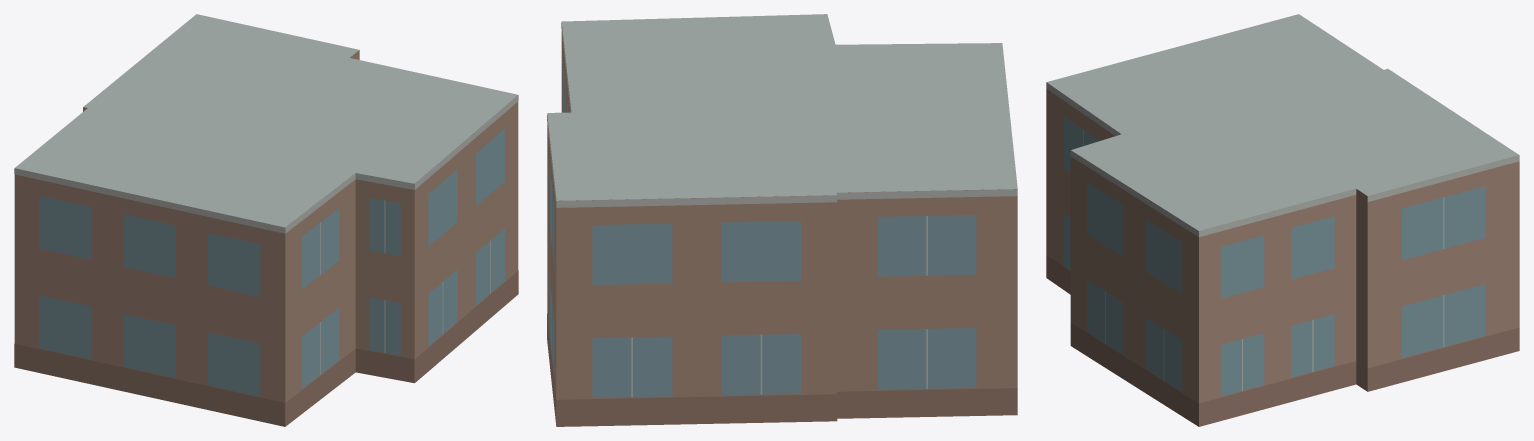
Rendered from survey-upis-33023883.glb.
3 views of the same model, side by side, from view 1: azimuth 30°, elevation 25°; view 2: azimuth 150°, elevation 25°; view 3: azimuth 270°, elevation 25° (orthographic). The views are drawn at different scales.
Parts seen in each view (by area): view 1: survey-upis-33023883.tmp; view 2: survey-upis-33023883.tmp; view 3: survey-upis-33023883.tmp.
Part boxes in pixels (box(x1,y1,x2,y2)): survey-upis-33023883.tmp: box(14, 14, 518, 426); survey-upis-33023883.tmp: box(547, 14, 1017, 426); survey-upis-33023883.tmp: box(1046, 14, 1519, 426).
Bounding box in the file's own units: 18.57 × 7.8 × 17.1.
